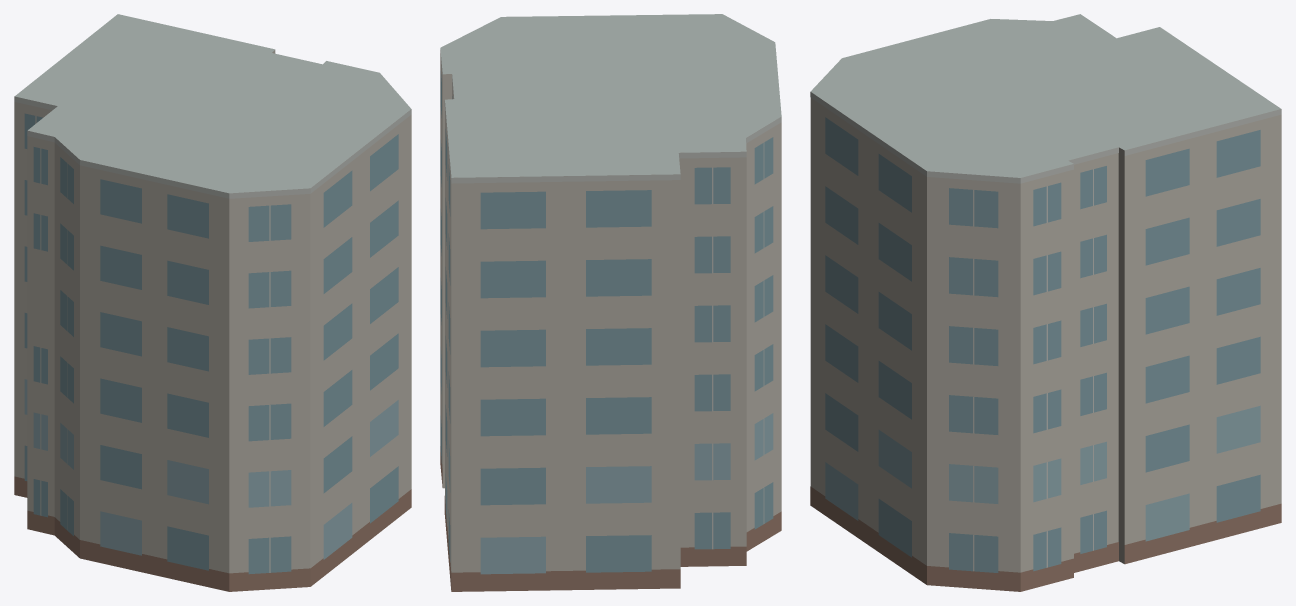
The model's file is survey-upis-32651277.glb.
3 renders of one model, left to right at view 1: azimuth 30°, elevation 25°; view 2: azimuth 150°, elevation 25°; view 3: azimuth 270°, elevation 25°, orthographic. The views are drawn at different scales.
Parts seen in each view (by area): view 1: survey-upis-32651277.tmp; view 2: survey-upis-32651277.tmp; view 3: survey-upis-32651277.tmp.
Boxes of the visible parts, x1,y1,x2,y2 form: survey-upis-32651277.tmp: (14,14,411,591); survey-upis-32651277.tmp: (440,14,781,591); survey-upis-32651277.tmp: (810,14,1281,591).
Size of the model in its own units: 15.14 by 17.8 by 18.37.
